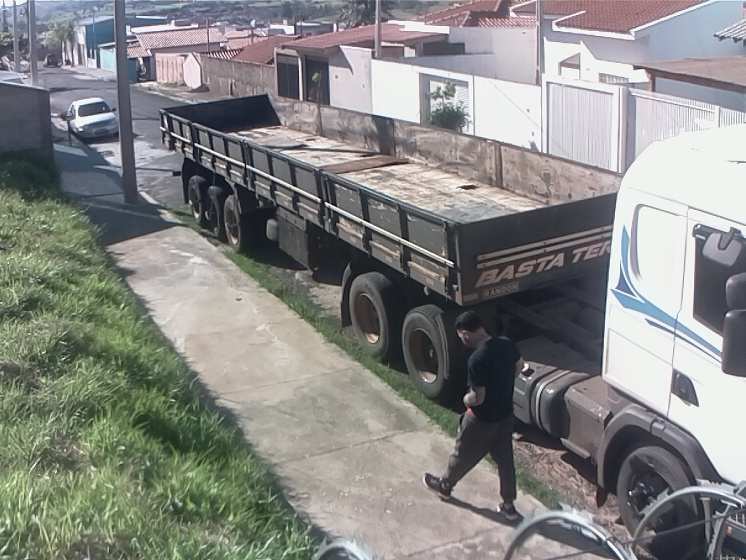person: (419, 307, 543, 527)
